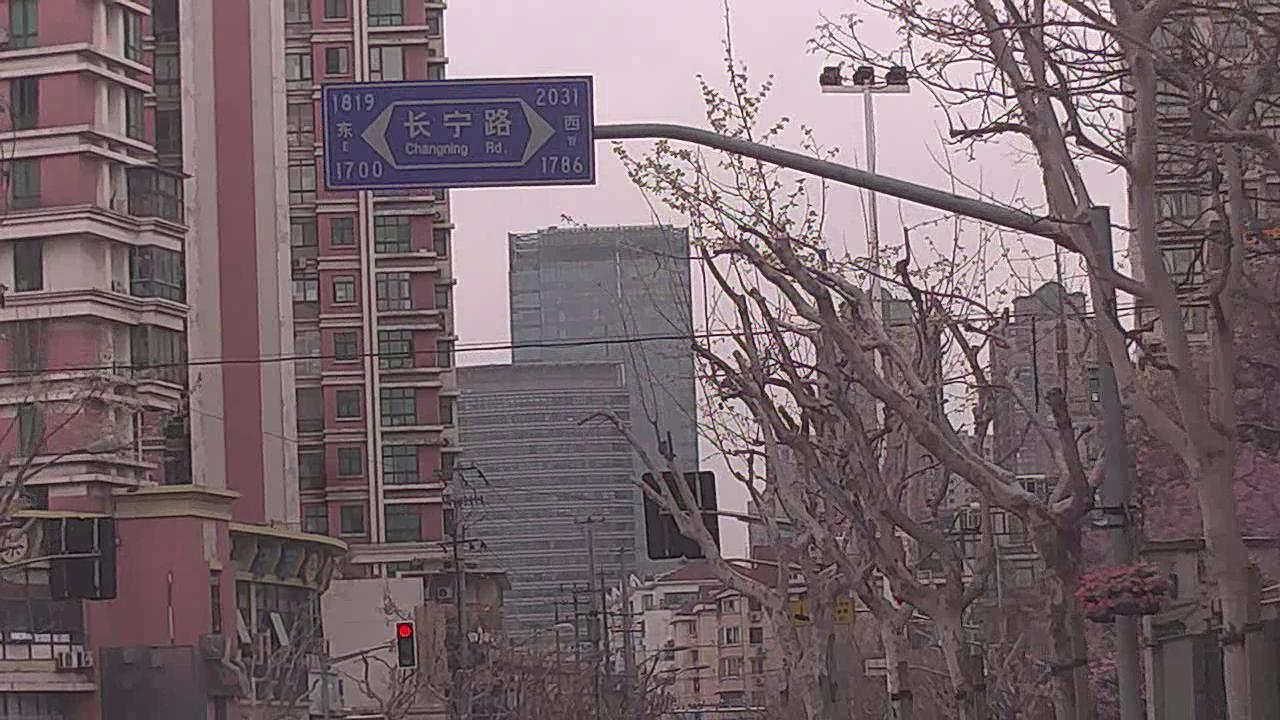traffic_light: (397, 619, 418, 670)
